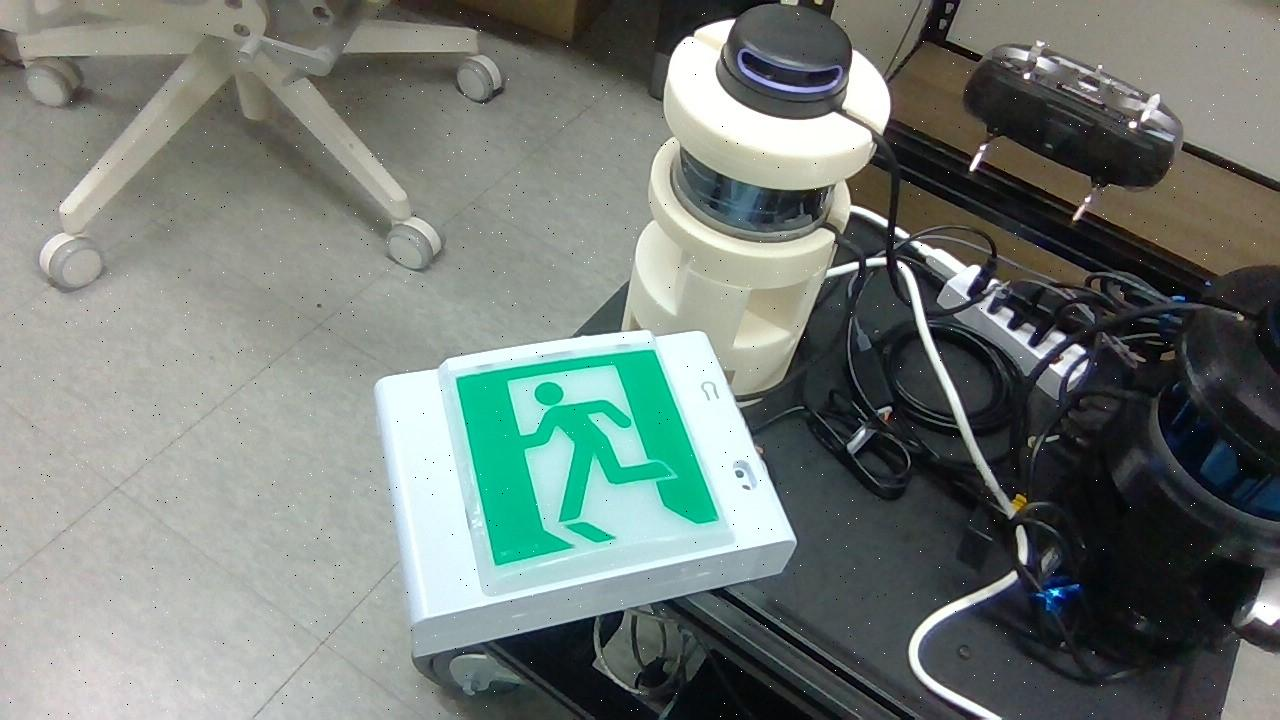emergency_exit: (374, 326, 798, 661)
